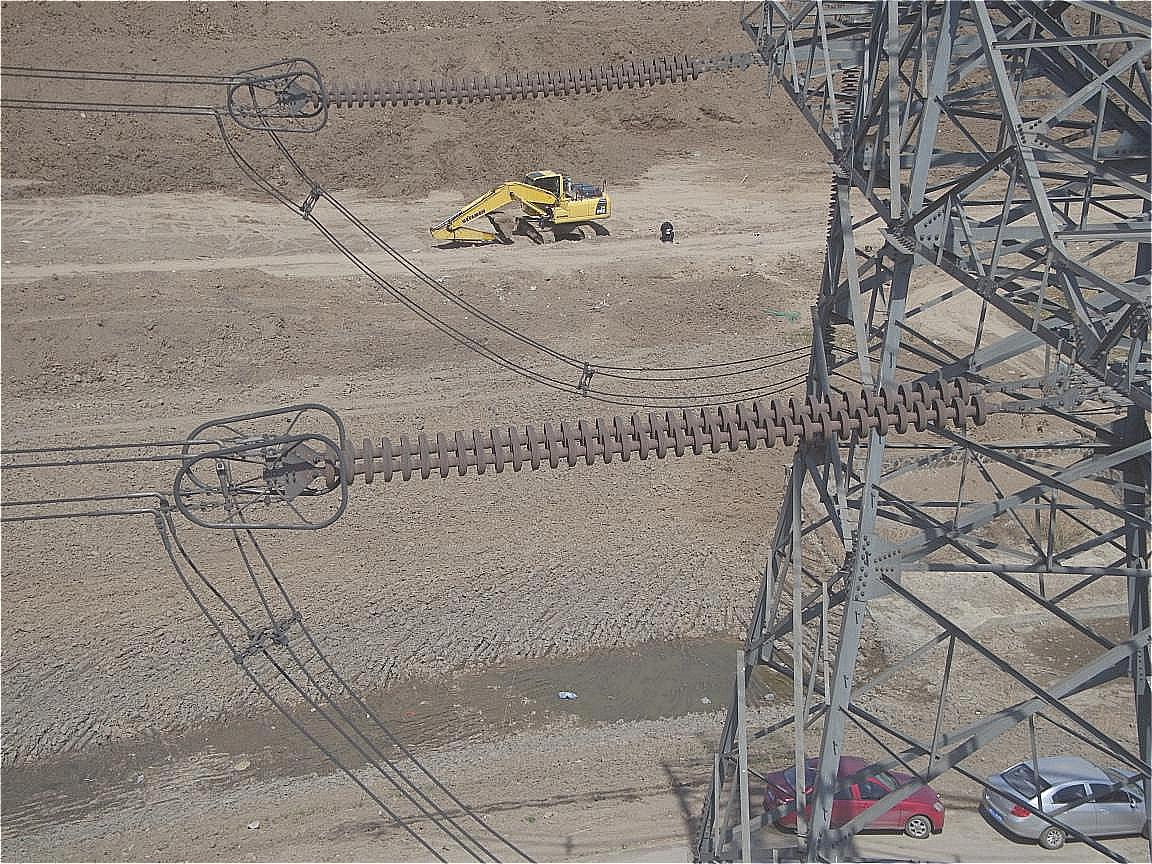insultor1: (323, 378, 986, 489), (309, 52, 701, 108)
